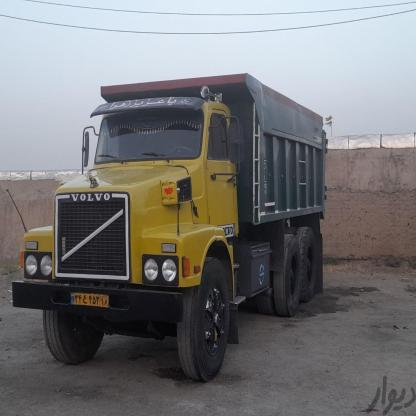Truck: (15, 72, 333, 384)
